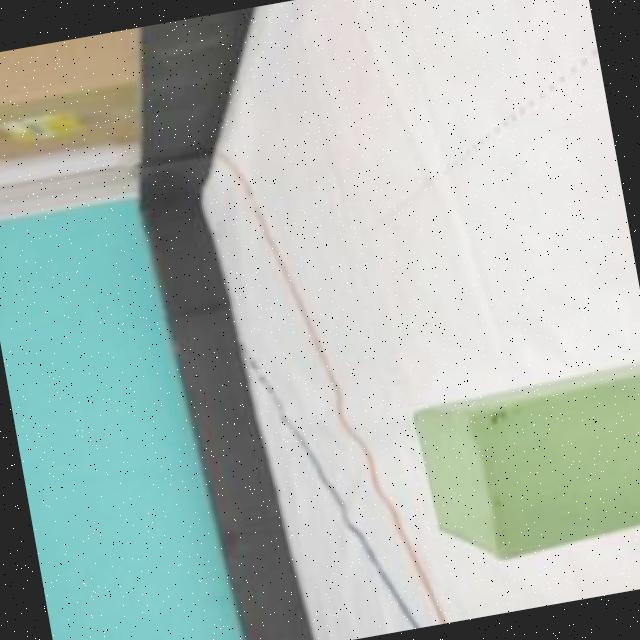greenbox: (403, 352, 640, 571)
